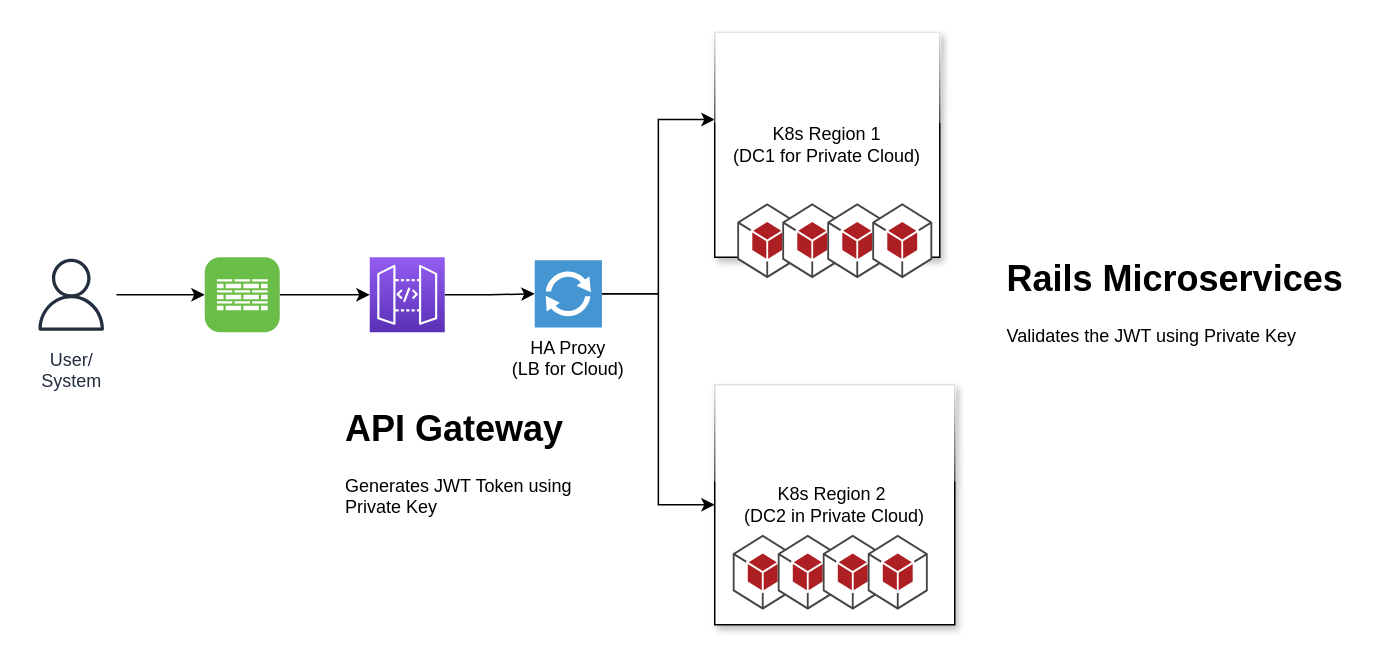
Some shapes in this 1395 by 662 pixel diagram are drawn without their labels. The centre of each missing label's shape, as x and y in pixels:
"API Gateway" belongs at [406,294].
"Firewall" belongs at [241,294].
